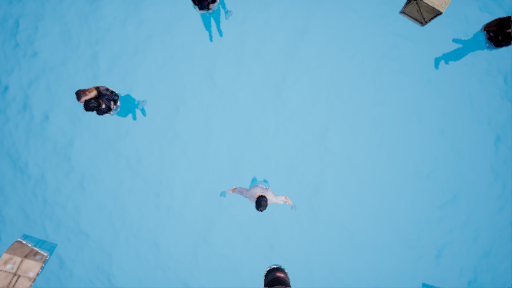person: (75, 85, 154, 123), (226, 177, 295, 217)
